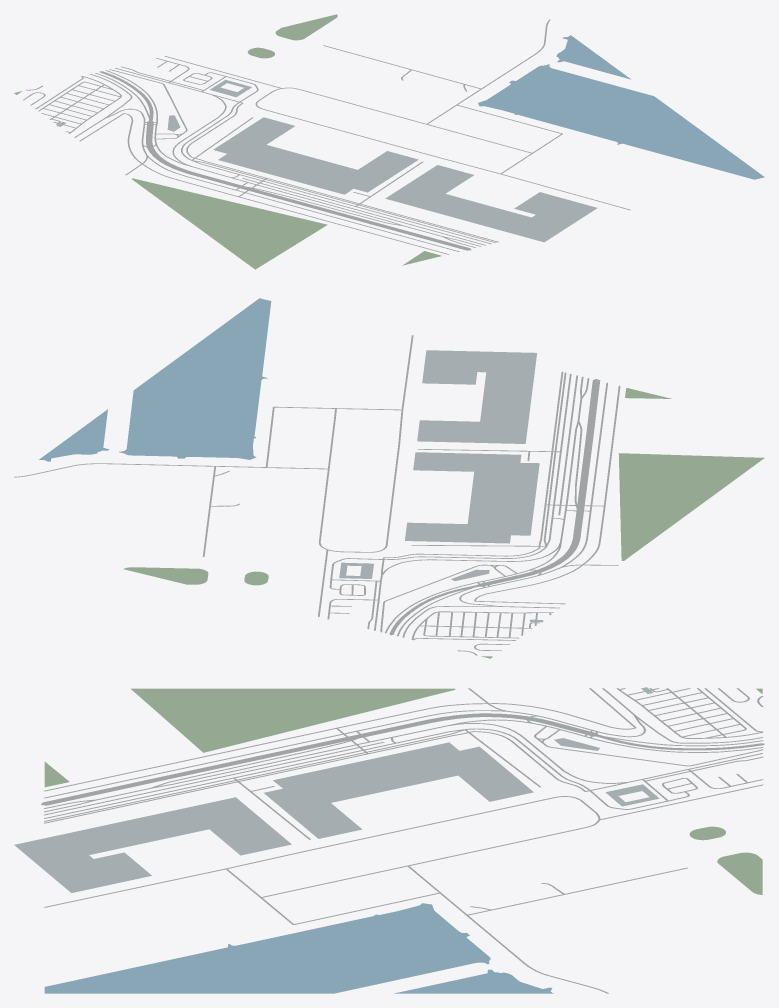
Rendered from -22_9-known-fine.glb.
The picture shows the model from 3 angles, top to bottom: view 1: azimuth 30°, elevation 25°; view 2: azimuth 150°, elevation 25°; view 3: azimuth 270°, elevation 25°; orthographic projection. The views are drawn at different scales.
Bounding box in the file's own units: 1005 × 0.15 × 1041.
